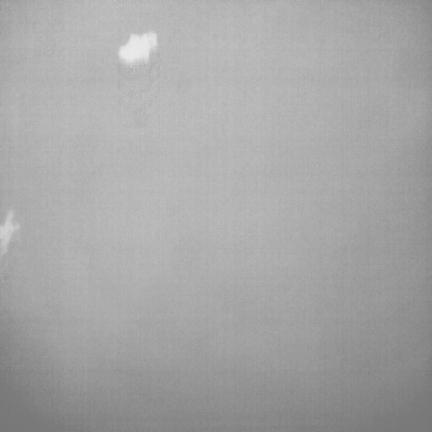flukeprints: (118, 32, 157, 65)
